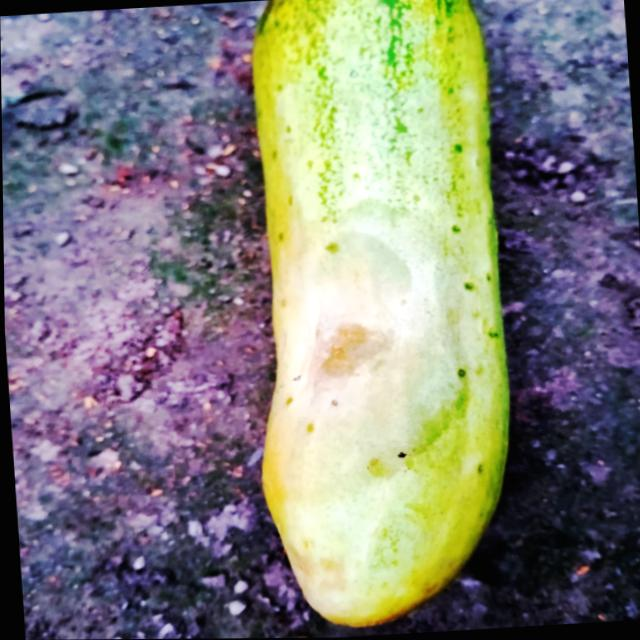Belly-Rot: (273, 203, 460, 461)
